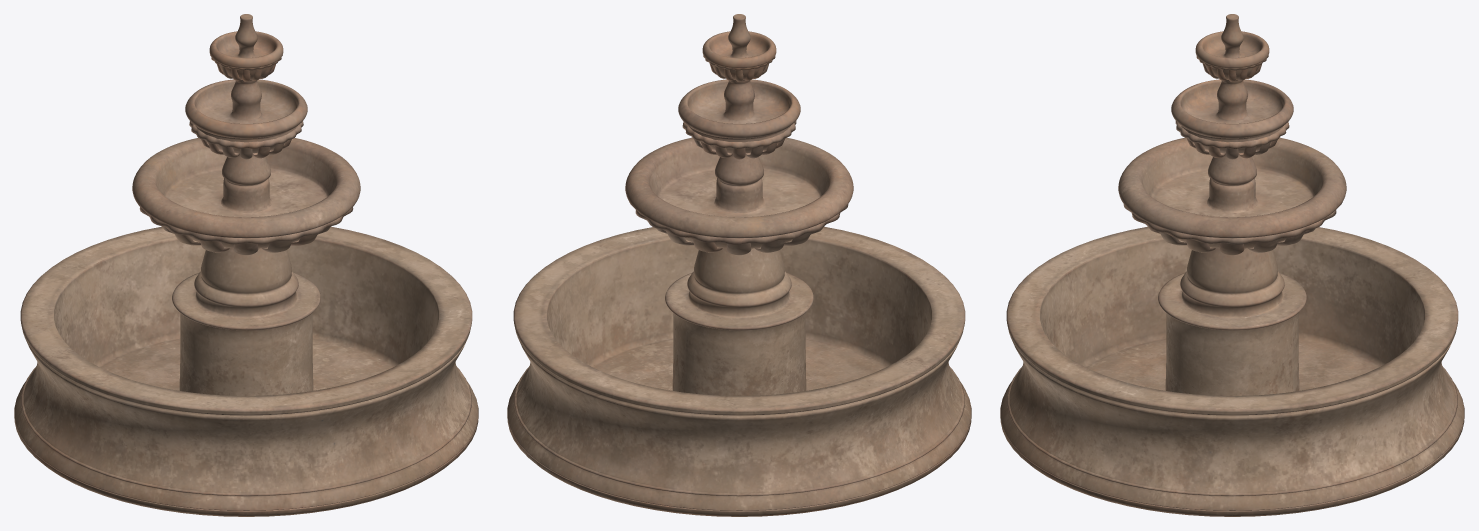
The model's file is fountain_v4.fbx.
3 renders of one model, left to right at view 1: azimuth 30°, elevation 25°; view 2: azimuth 150°, elevation 25°; view 3: azimuth 270°, elevation 25°, orthographic.
Visible parts, largest first — view 1: fountain_v4; view 2: fountain_v4; view 3: fountain_v4.
Boxes of the visible parts, x1,y1,x2,y2 form: fountain_v4: (14,14,478,516); fountain_v4: (507,14,971,516); fountain_v4: (1000,14,1464,516).
Size of the model in its own units: 241 by 232 by 240.
Materials: 1 (1 with a texture image).
